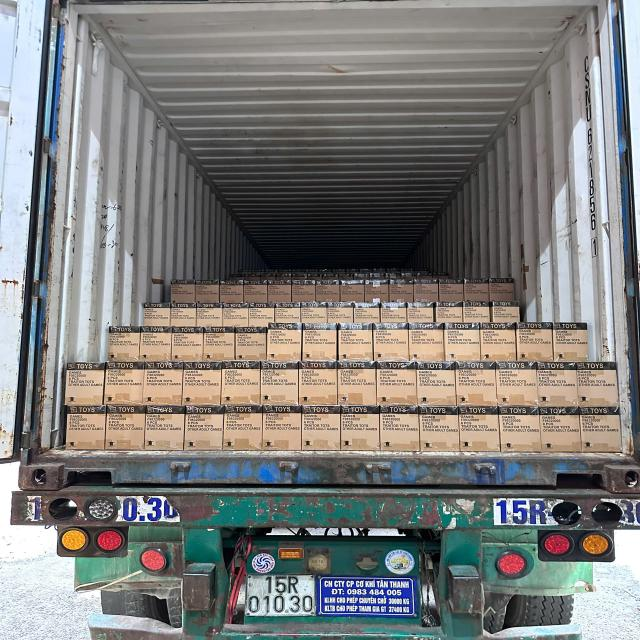Carton: (578, 407, 624, 453), (378, 404, 422, 452), (260, 404, 304, 452), (418, 406, 462, 452), (457, 406, 500, 453), (539, 406, 582, 452), (577, 361, 620, 407), (222, 404, 264, 451), (499, 407, 542, 452), (66, 405, 108, 451), (537, 362, 580, 406), (302, 406, 344, 451), (142, 360, 183, 406), (376, 362, 419, 405), (496, 362, 538, 406), (144, 404, 184, 450), (106, 404, 146, 450), (65, 362, 107, 405), (416, 361, 456, 406), (183, 361, 223, 406), (341, 405, 380, 451), (456, 362, 496, 406), (104, 360, 144, 404), (185, 406, 224, 451), (222, 362, 260, 405), (338, 362, 376, 405), (298, 363, 336, 402), (262, 366, 300, 403), (554, 328, 590, 364), (267, 330, 303, 365), (517, 330, 554, 364), (410, 330, 445, 364), (338, 330, 374, 363), (482, 330, 518, 363), (445, 330, 481, 363), (374, 330, 410, 363), (303, 330, 338, 363), (110, 326, 140, 362), (141, 326, 171, 362), (203, 332, 236, 363), (170, 332, 202, 363), (236, 333, 267, 363), (222, 302, 249, 328), (248, 302, 276, 327), (406, 301, 436, 324), (490, 300, 520, 323), (170, 303, 198, 327), (144, 303, 172, 327), (195, 278, 220, 304), (389, 277, 414, 303), (196, 303, 223, 327), (364, 278, 389, 303), (438, 278, 464, 302), (300, 301, 327, 324), (434, 302, 462, 324), (171, 279, 196, 303), (268, 280, 293, 304), (464, 278, 489, 302), (274, 302, 301, 324), (327, 302, 354, 324), (353, 302, 380, 324), (380, 302, 407, 324), (463, 300, 490, 322), (220, 279, 244, 303), (292, 279, 316, 303), (414, 278, 438, 302), (243, 280, 268, 303), (316, 279, 340, 302), (490, 278, 514, 301), (341, 280, 365, 302)
